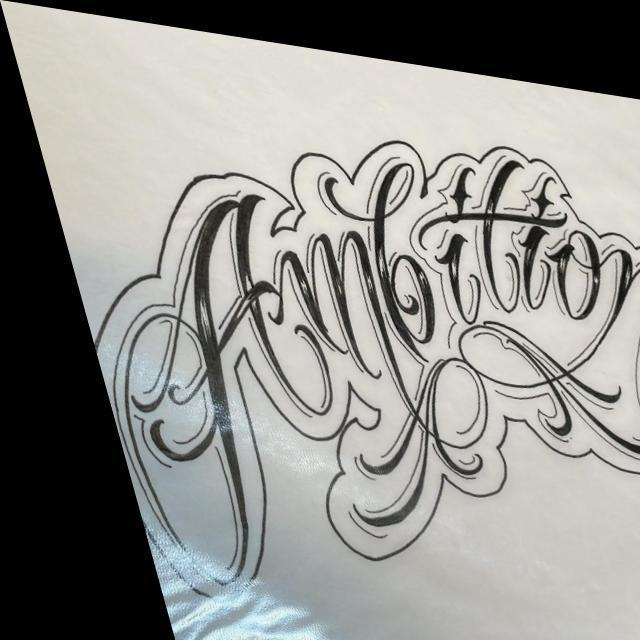-: (6, 27, 640, 640)
